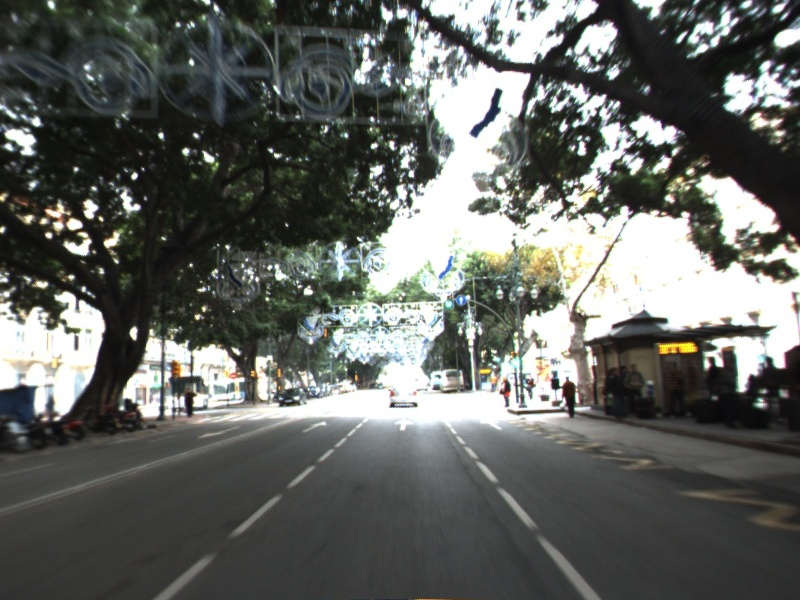STRAIGHT: (299, 419, 329, 434), (392, 418, 417, 433)
